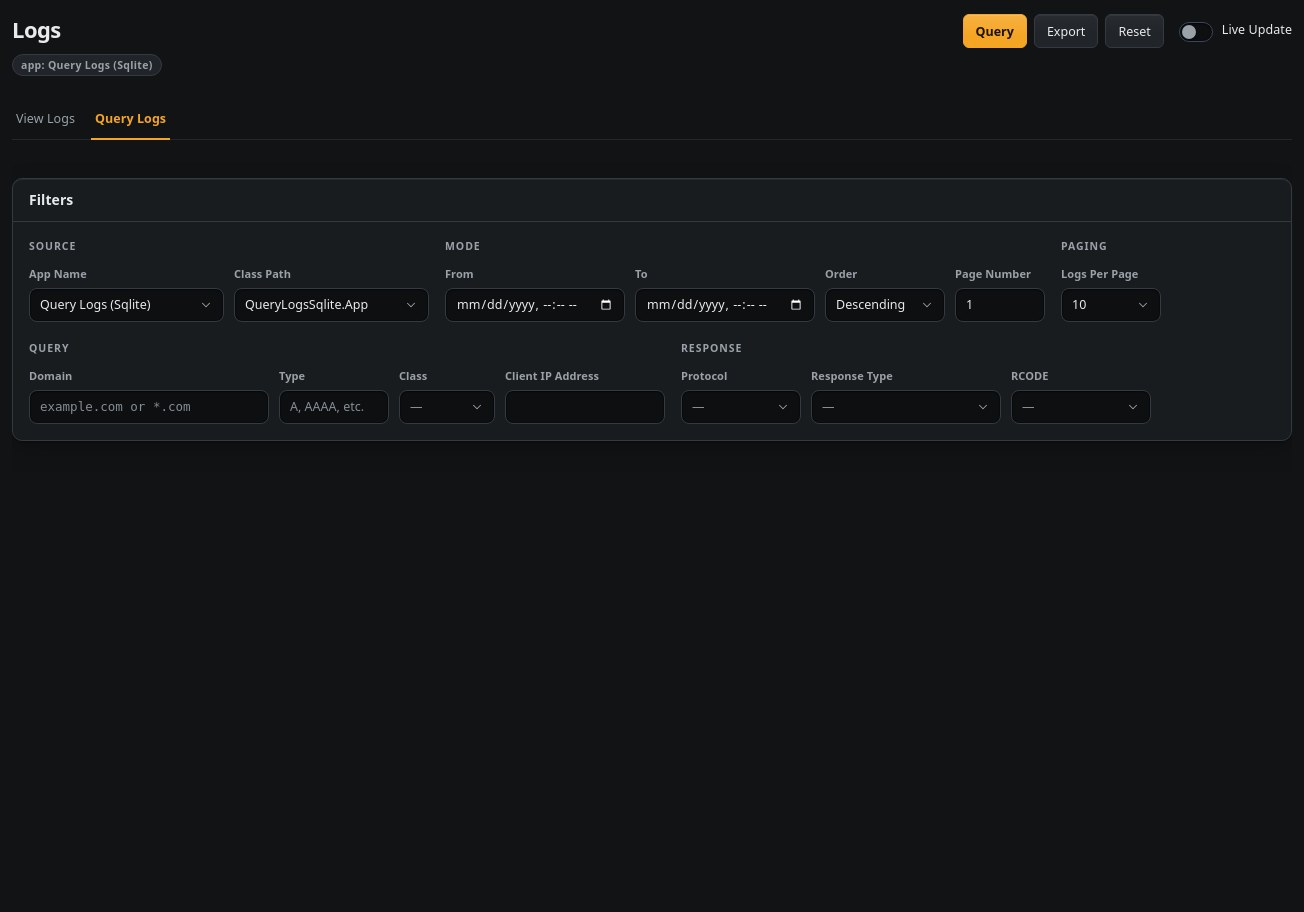
Test case: Logs › Query Logs: the table › a response with no data leaves the counter at "0 logs"
This screenshot has width=1304, height=912.
Check: the dropdown named "App Name" is shown, box [29, 288, 224, 322]
Click the button "Query".
click(995, 31)  # box [962, 14, 1027, 48]
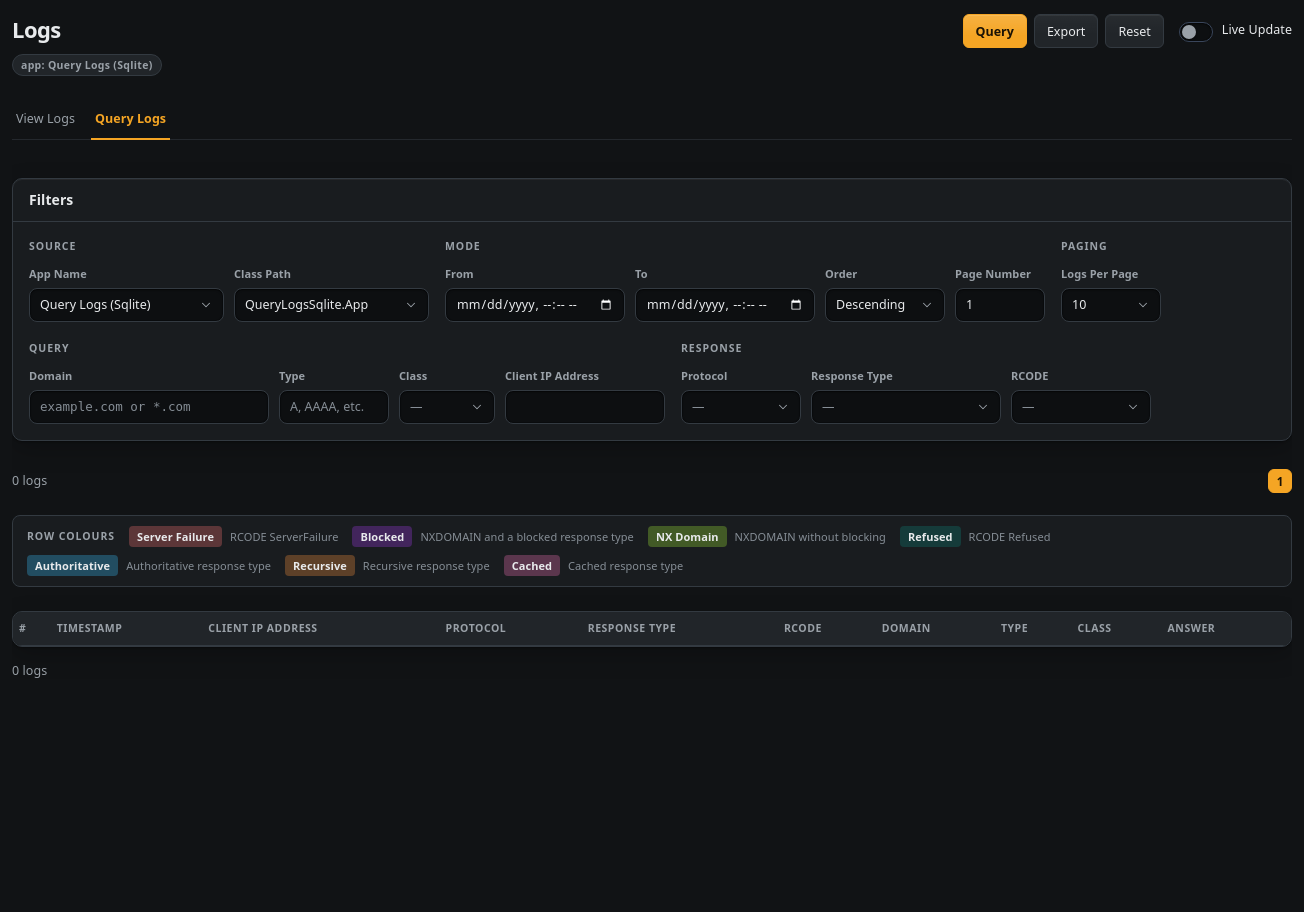
Check: the text "0 logs" is shown 2 times, box [12, 471, 47, 491]; [12, 661, 47, 680]
